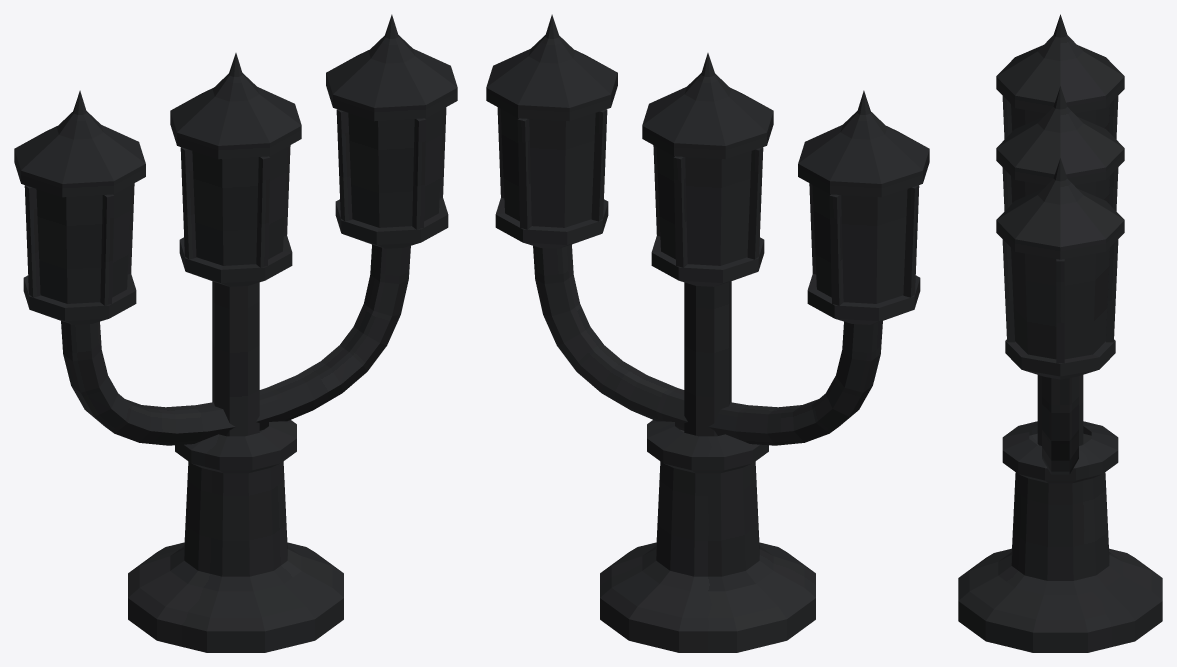
Rendered from decolight_lahollywoodwof_inv.obj.
The picture shows the model from 3 angles, left to right: view 1: azimuth 30°, elevation 25°; view 2: azimuth 150°, elevation 25°; view 3: azimuth 270°, elevation 25°; orthographic projection. The views are drawn at different scales.
Parts seen in each view (by area): view 1: decolight_lahollywoodwof_inv; view 2: decolight_lahollywoodwof_inv; view 3: decolight_lahollywoodwof_inv.
Boxes of the visible parts, x1,y1,x2,y2 form: decolight_lahollywoodwof_inv: (14,14,457,652); decolight_lahollywoodwof_inv: (486,14,929,652); decolight_lahollywoodwof_inv: (958,14,1162,652).
Bounding box in the file's own units: 0.7899 × 0.975 × 0.3441.
